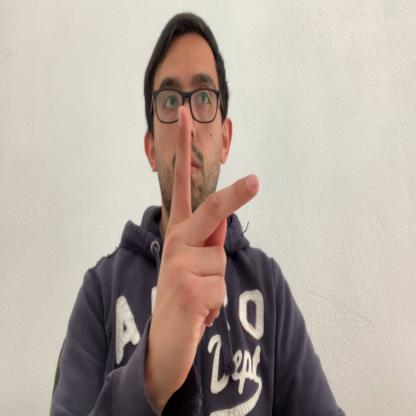P: (150, 107, 259, 396)
